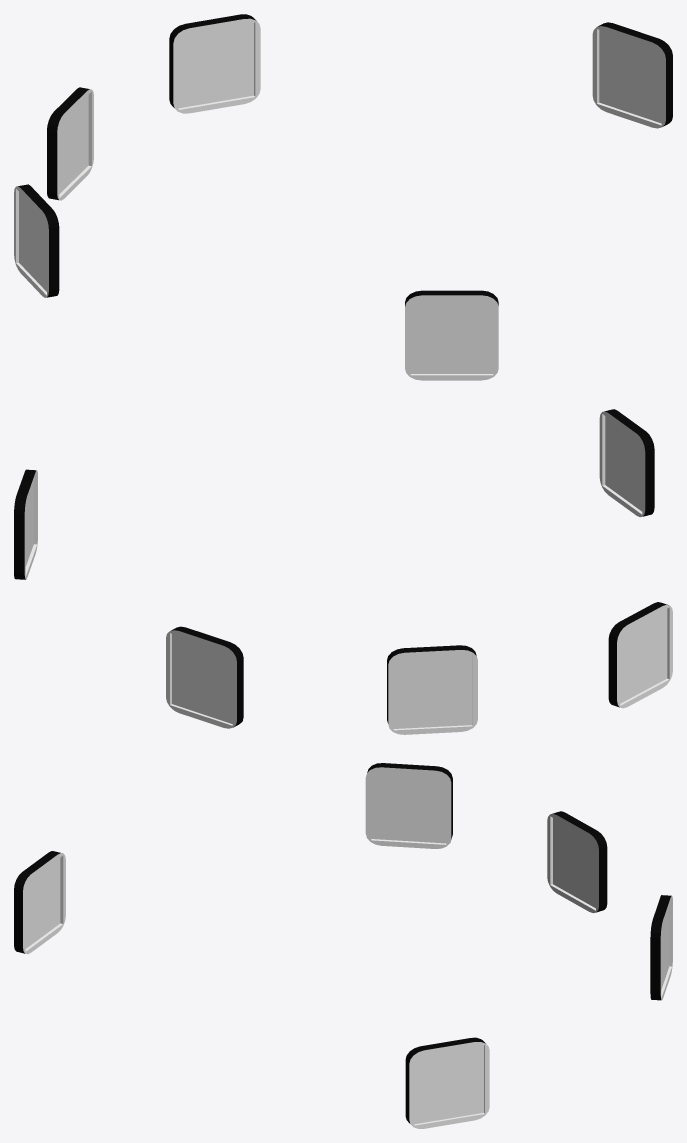
File: CombinedMesh-MeshBaker (1)-mesh.fbx
3 renders of one model, top to bottom at view 1: azimuth 30°, elevation 25°; view 2: azimuth 150°, elevation 25°; view 3: azimuth 270°, elevation 25°, orthographic. The views are drawn at different scales.
Parts seen in each view (by area): view 1: MeshBaker__1__mesh_mesh; view 2: MeshBaker__1__mesh_mesh; view 3: MeshBaker__1__mesh_mesh.
Boxes of the visible parts, <box> form: MeshBaker__1__mesh_mesh: <box>14,14,672,380</box>; MeshBaker__1__mesh_mesh: <box>14,409,672,734</box>; MeshBaker__1__mesh_mesh: <box>14,763,672,1128</box>.
Bounding box in the file's own units: 1615 × 203 × 1546.
